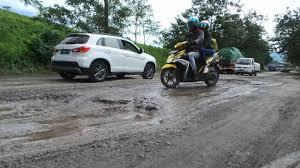Pothole: (0, 83, 189, 150), (219, 72, 249, 91)
